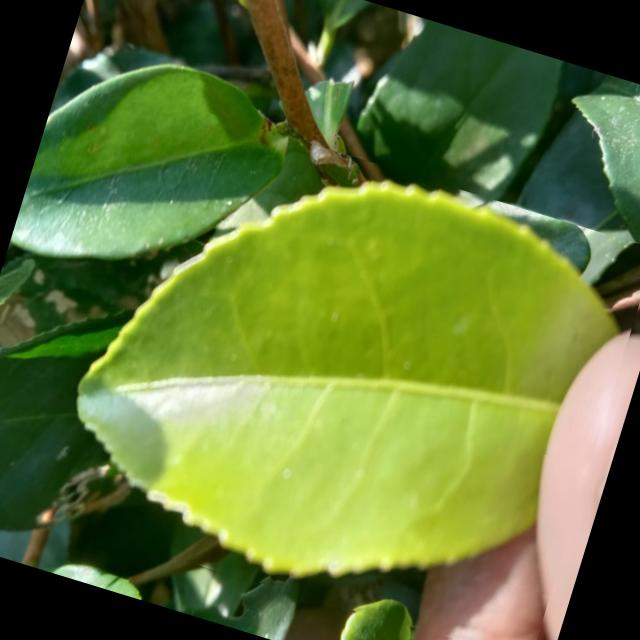Category B 2-4 days: (19, 93, 640, 640)
